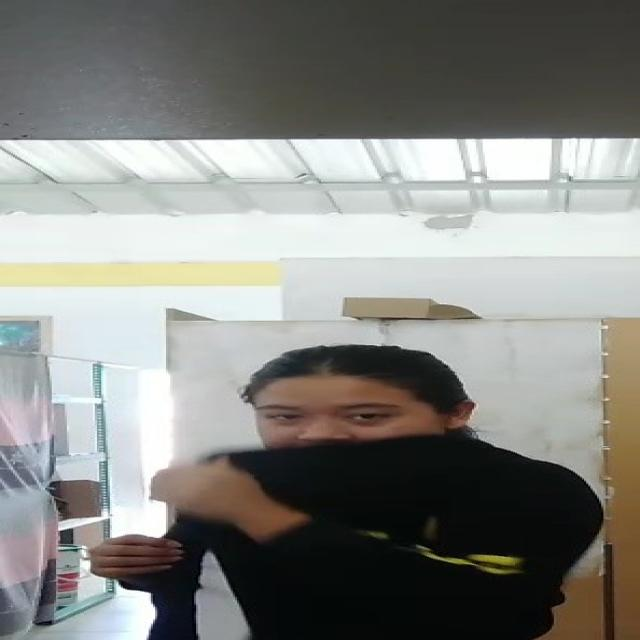8_ropa_rostro: (145, 432, 508, 534)
